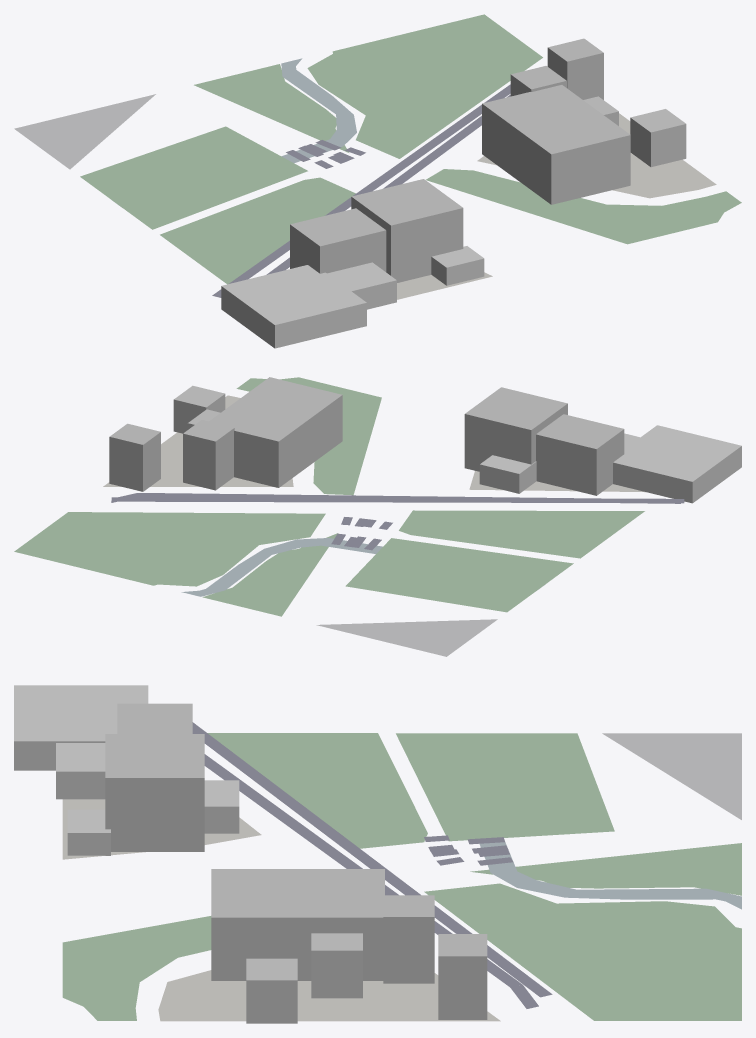
Rendered from 119_114_mid.glb.
3 renders of one model, top to bottom at view 1: azimuth 30°, elevation 25°; view 2: azimuth 150°, elevation 25°; view 3: azimuth 270°, elevation 25°, orthographic. The views are drawn at different scales.
Bounding box in the file's own units: 536 × 61.15 × 536.
